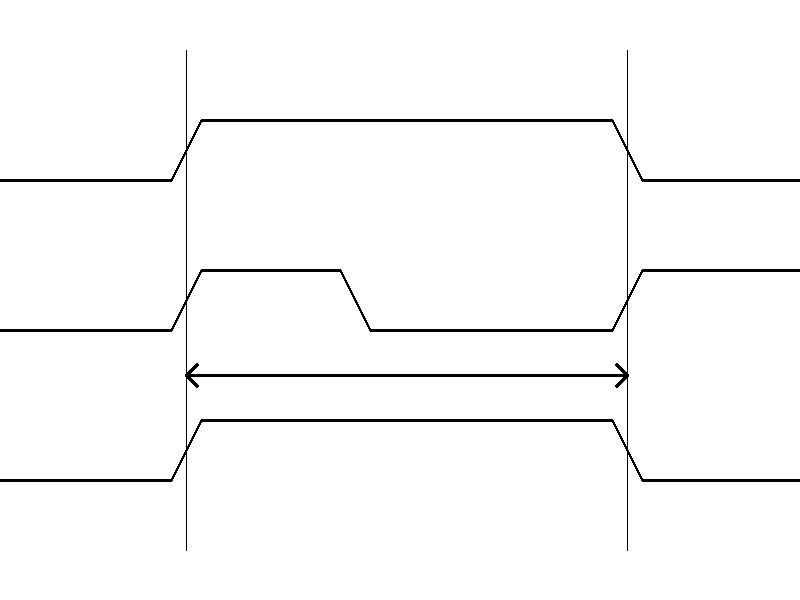double_arrow: (186, 360, 627, 390)
